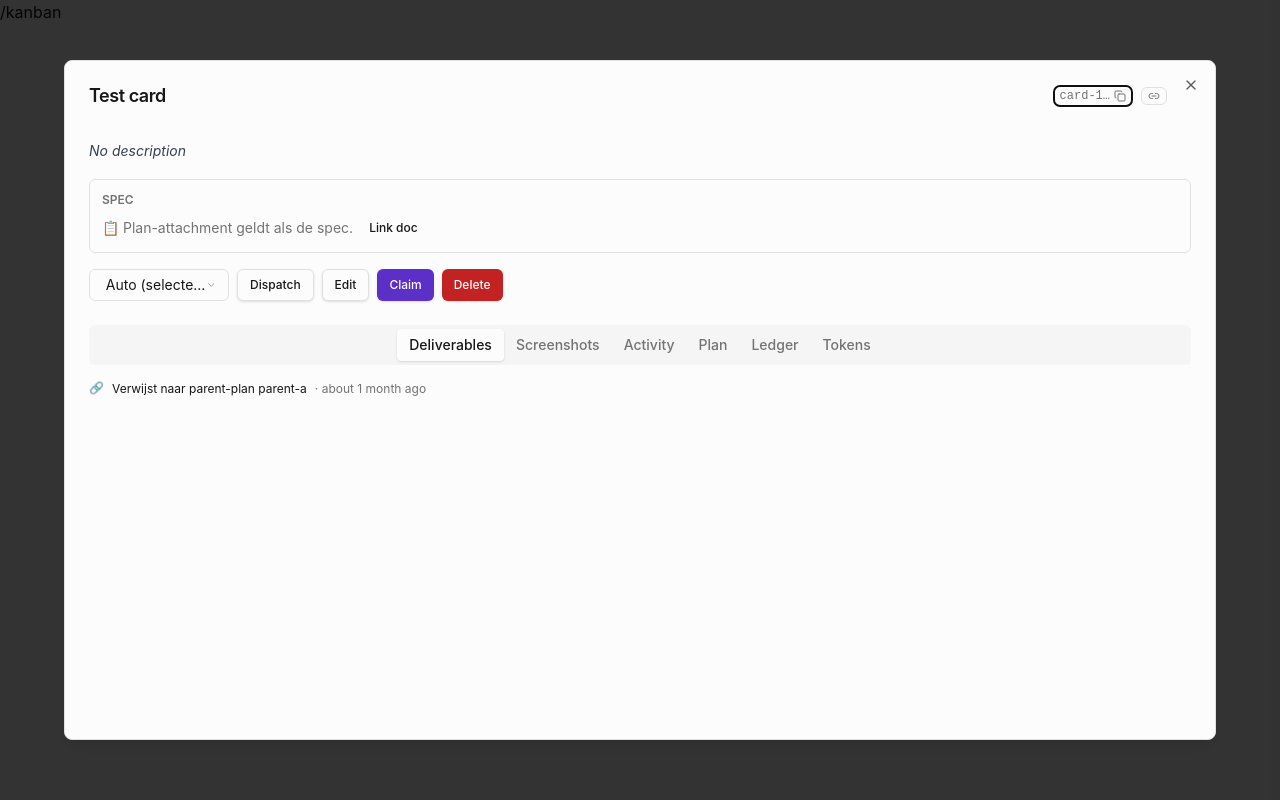
Test: CardDrawer Plan tab dead-link navigation › Depends on badges navigate to the dependency card via the ?card= deep-link
Press the mouse on the tab "Plan": (713, 345) 686,329 -> 739,361
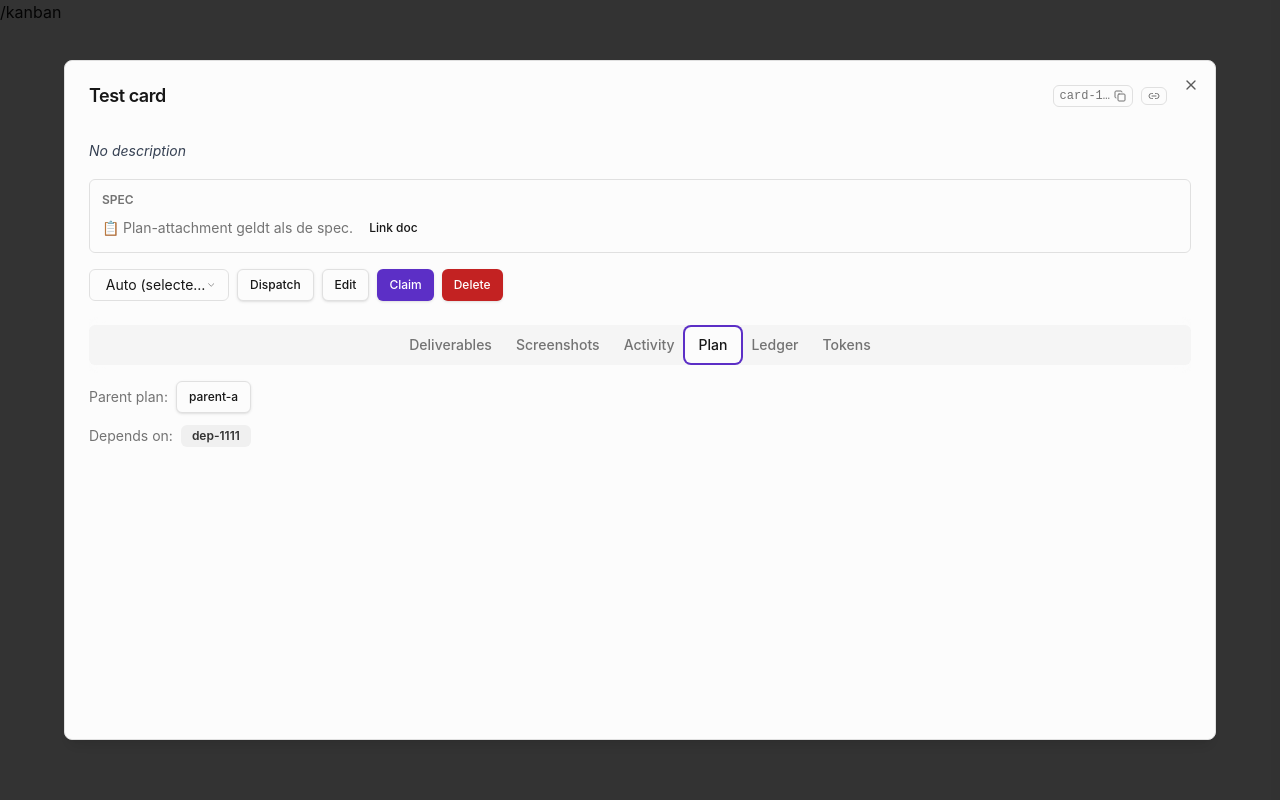
Click the button "dep-1111": (216, 436) 181,425 -> 251,447
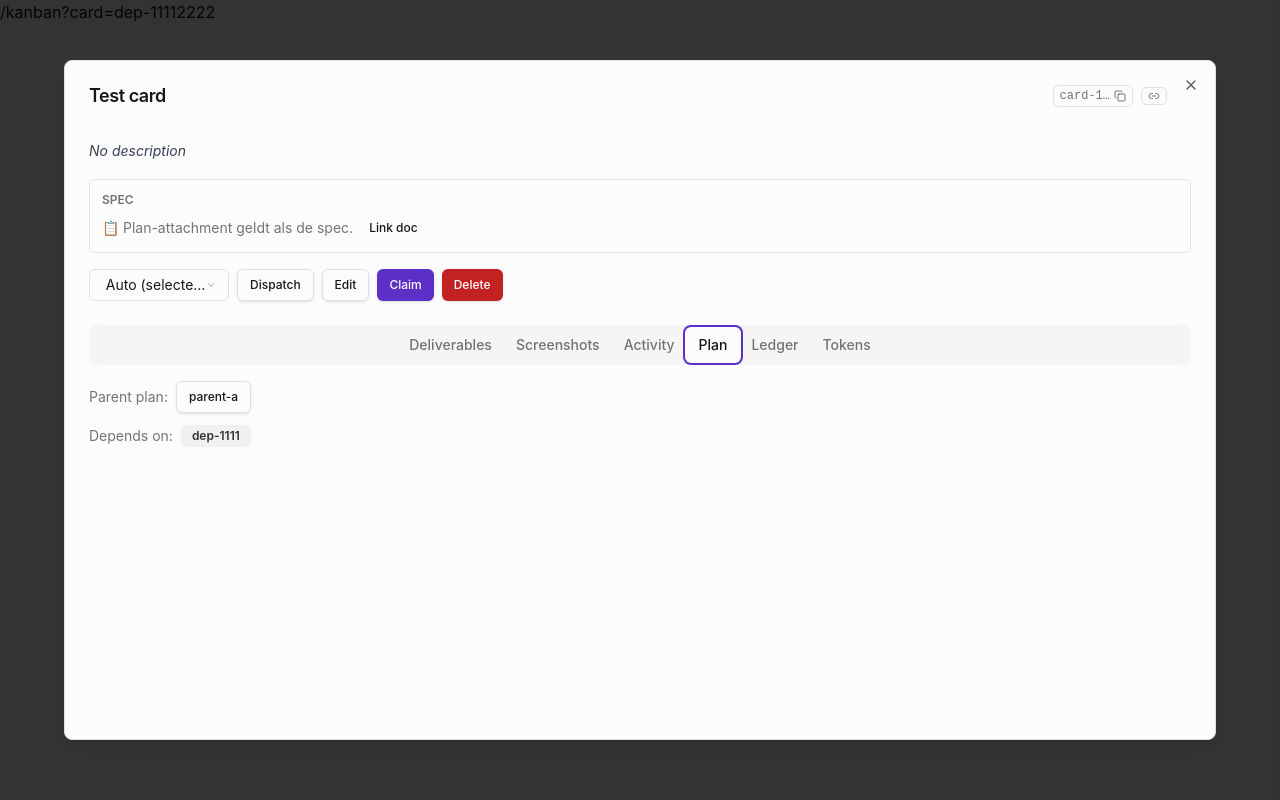
Expected: the text with test id "location" reads "/kanban?card=dep-11112222", 0,2 -> 215,22
